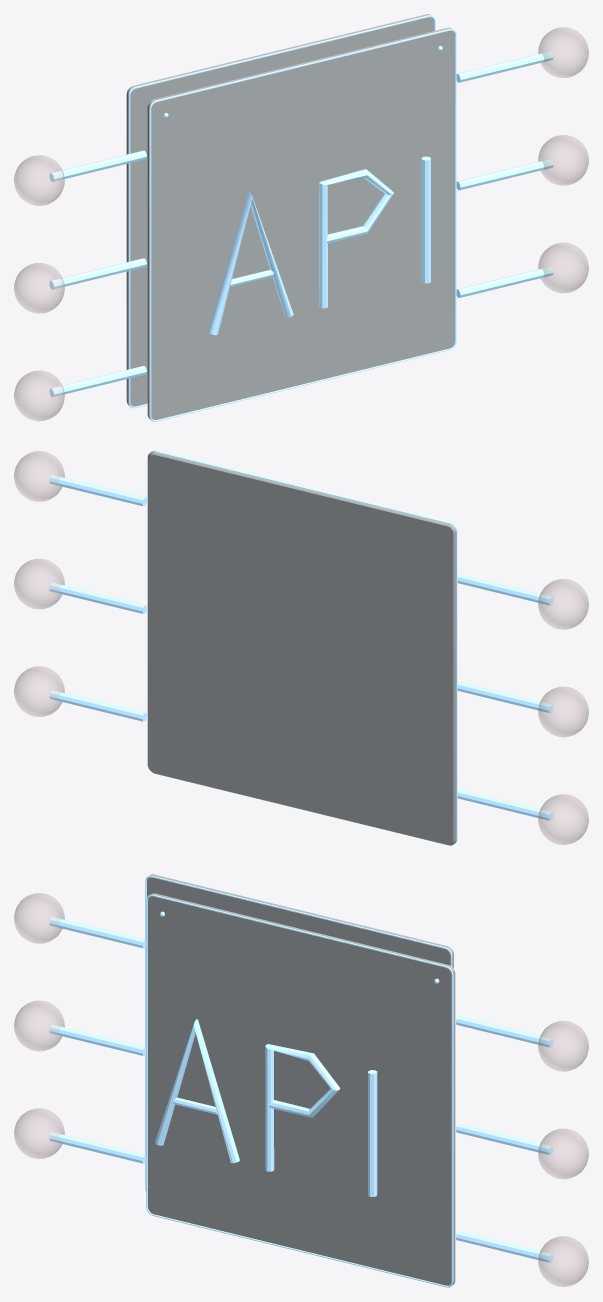
The model's file is 14-api.glb.
The picture shows the model from 3 angles, top to bottom: view 1: azimuth 30°, elevation 25°; view 2: azimuth 150°, elevation 25°; view 3: azimuth 330°, elevation 25°; orthographic projection.
Visible parts, largest first — view 1: BC thin clear technical glass, BC cool glass edge, BC subtle ruby technical glass; view 2: BC thin clear technical glass, BC subtle ruby technical glass, BC cool glass edge; view 3: BC thin clear technical glass, BC cool glass edge, BC subtle ruby technical glass.
Boxes of the visible parts, x1,y1,x2,y2 form: BC thin clear technical glass: (126, 14, 454, 419); BC cool glass edge: (49, 15, 553, 421); BC subtle ruby technical glass: (14, 27, 588, 421); BC thin clear technical glass: (147, 451, 456, 845); BC subtle ruby technical glass: (14, 451, 588, 844); BC cool glass edge: (49, 450, 553, 843); BC thin clear technical glass: (147, 874, 455, 1285); BC cool glass edge: (49, 875, 553, 1287); BC subtle ruby technical glass: (14, 893, 588, 1286).
Size of the model in its own units: 2.32 by 1.29 by 0.2973.
